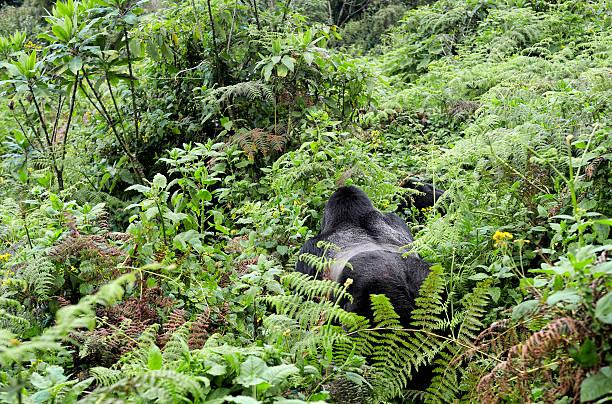goriile_montagne: (304, 185, 422, 314)
